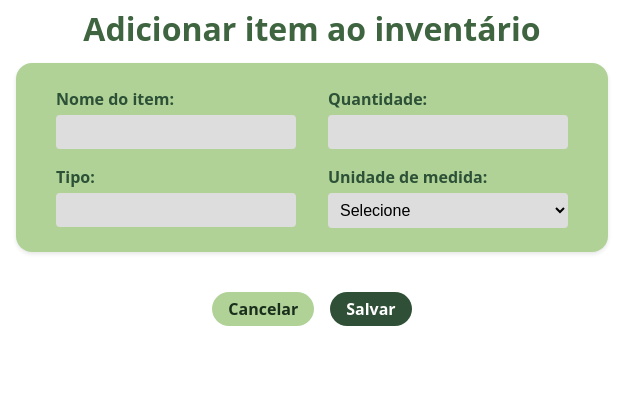
Test: InventoryCreate › exibe mensagem de erro se a API falhar
Type "Farinha" into the field labelled "Nome do item:" at (176, 132), box [56,115,296,149]
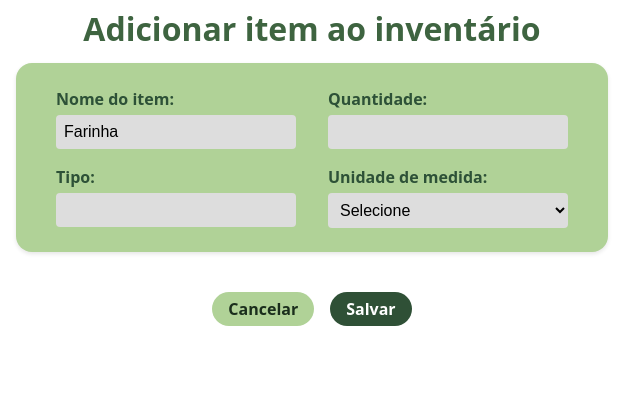
Type "Ingrediente" into the field labelled "Tipo:" at (176, 210), box [56,193,296,227]
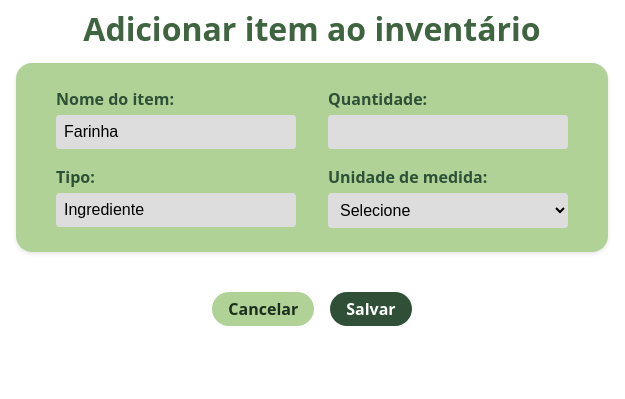
Type "10" into the number field labelled "Quantidade:" at (448, 132), box [328,115,568,149]
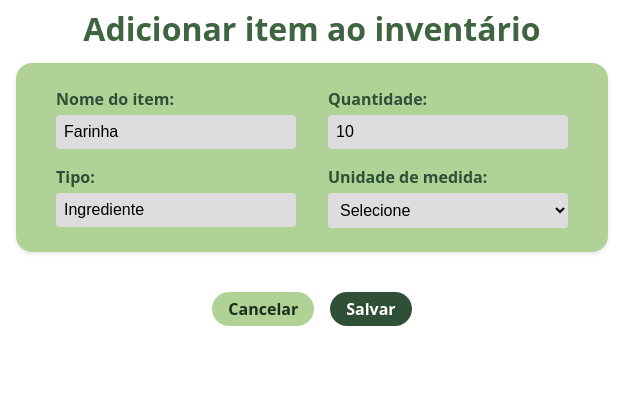
Select "kg" in the dropdown labelled "Unidade de medida:" at (448, 210), box [328,193,568,228]
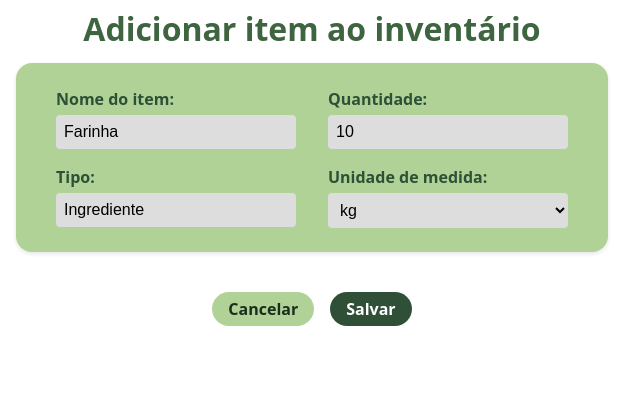
Click the button "Salvar" at (371, 309), box [330,292,412,326]
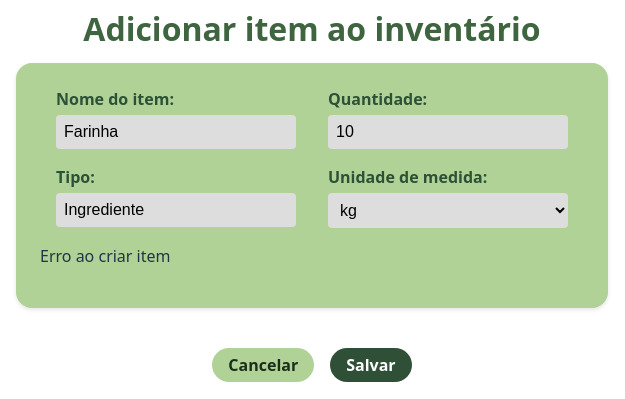
Check: the text "Erro ao criar item" is shown, box [40,245,170,267]
